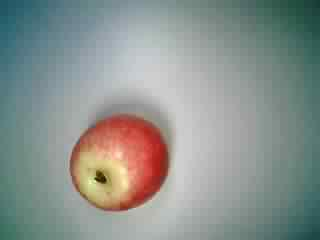apple: (67, 111, 172, 213)
